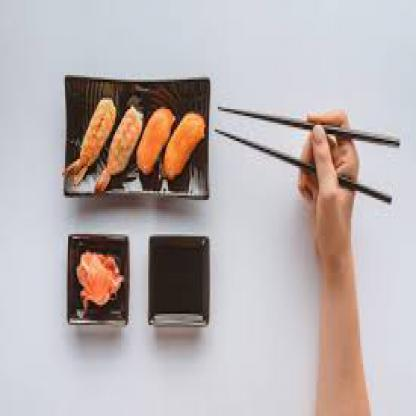chopstick: (215, 127, 390, 205), (218, 105, 401, 150)
